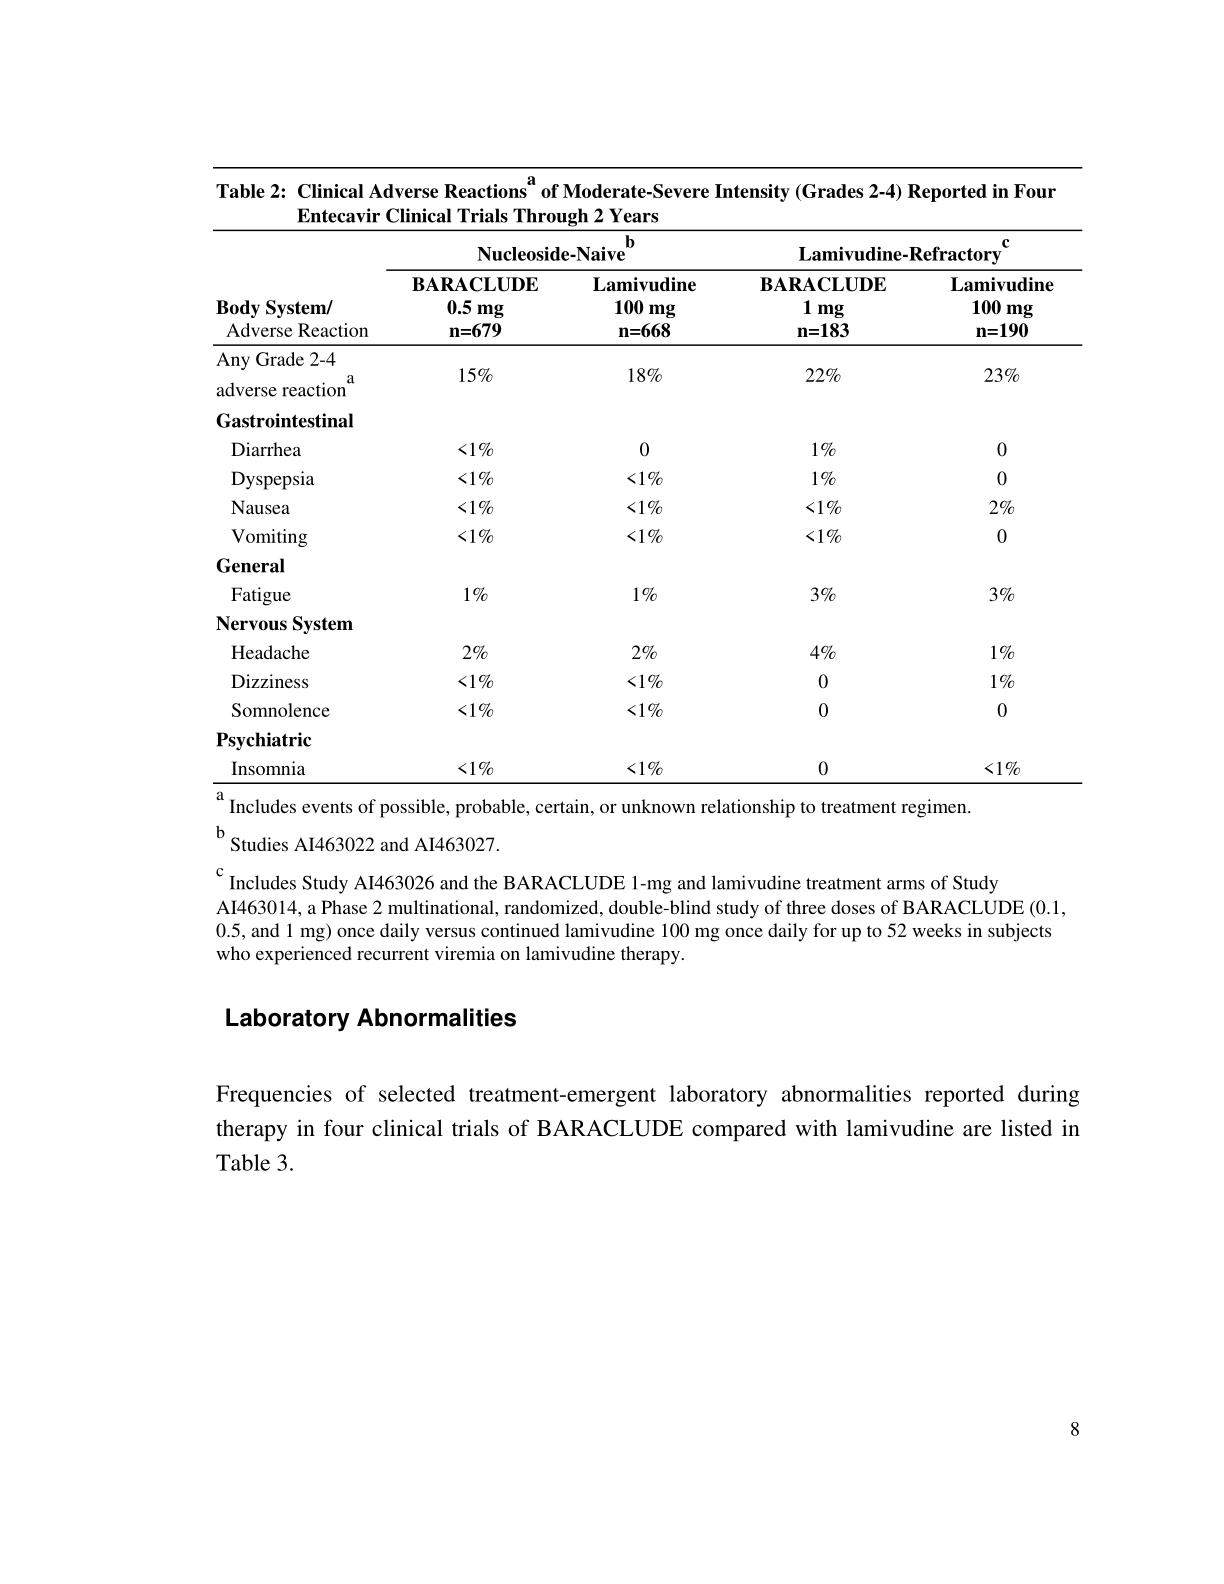partial_lined_merged_cells: (212, 166, 1083, 786)
